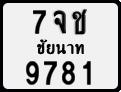letters: (72, 9, 87, 35), (25, 60, 40, 86), (44, 60, 58, 86), (33, 10, 47, 35), (53, 9, 67, 34), (61, 61, 75, 85), (82, 60, 91, 85)
province: (37, 38, 85, 55)
